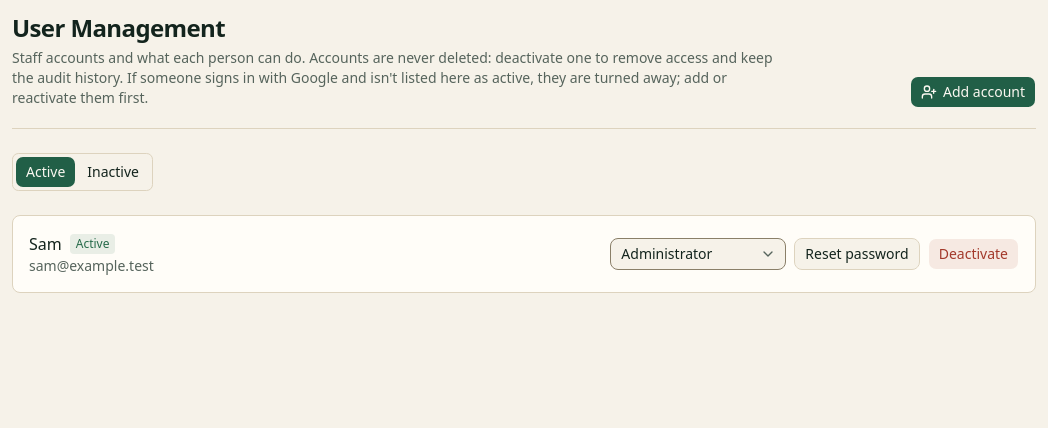
Scenario: staff accounts page › asks before deactivating and shows the server's reason when refused
The width and height of the screenshot is (1048, 428).
Click the button "Deactivate" at (973,254), box 928,238 -> 1019,270
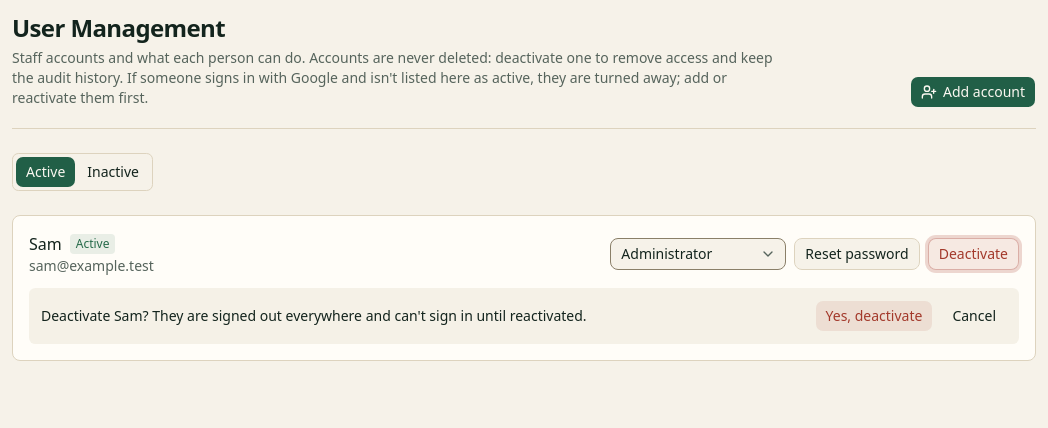
Click the button "Yes, deactivate" at (874,316), box 814,300 -> 933,332
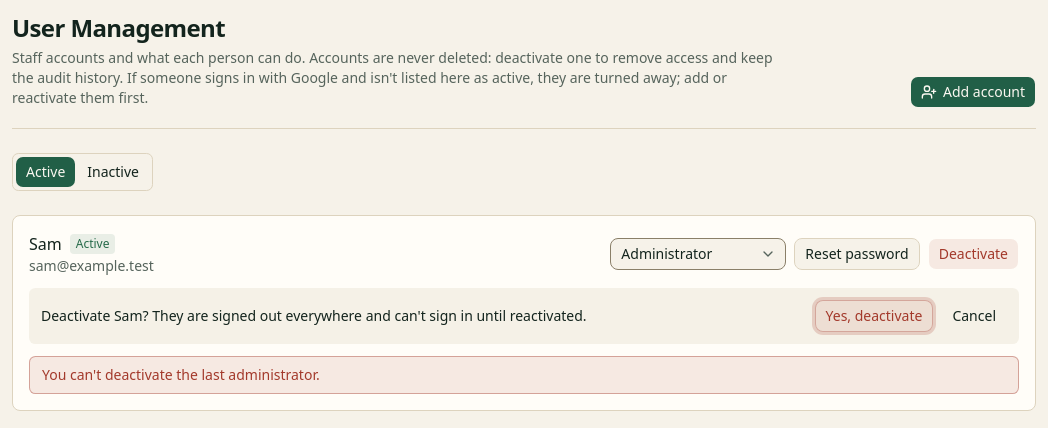
Expected: the message shows "last administrator", 42,365 -> 320,384
